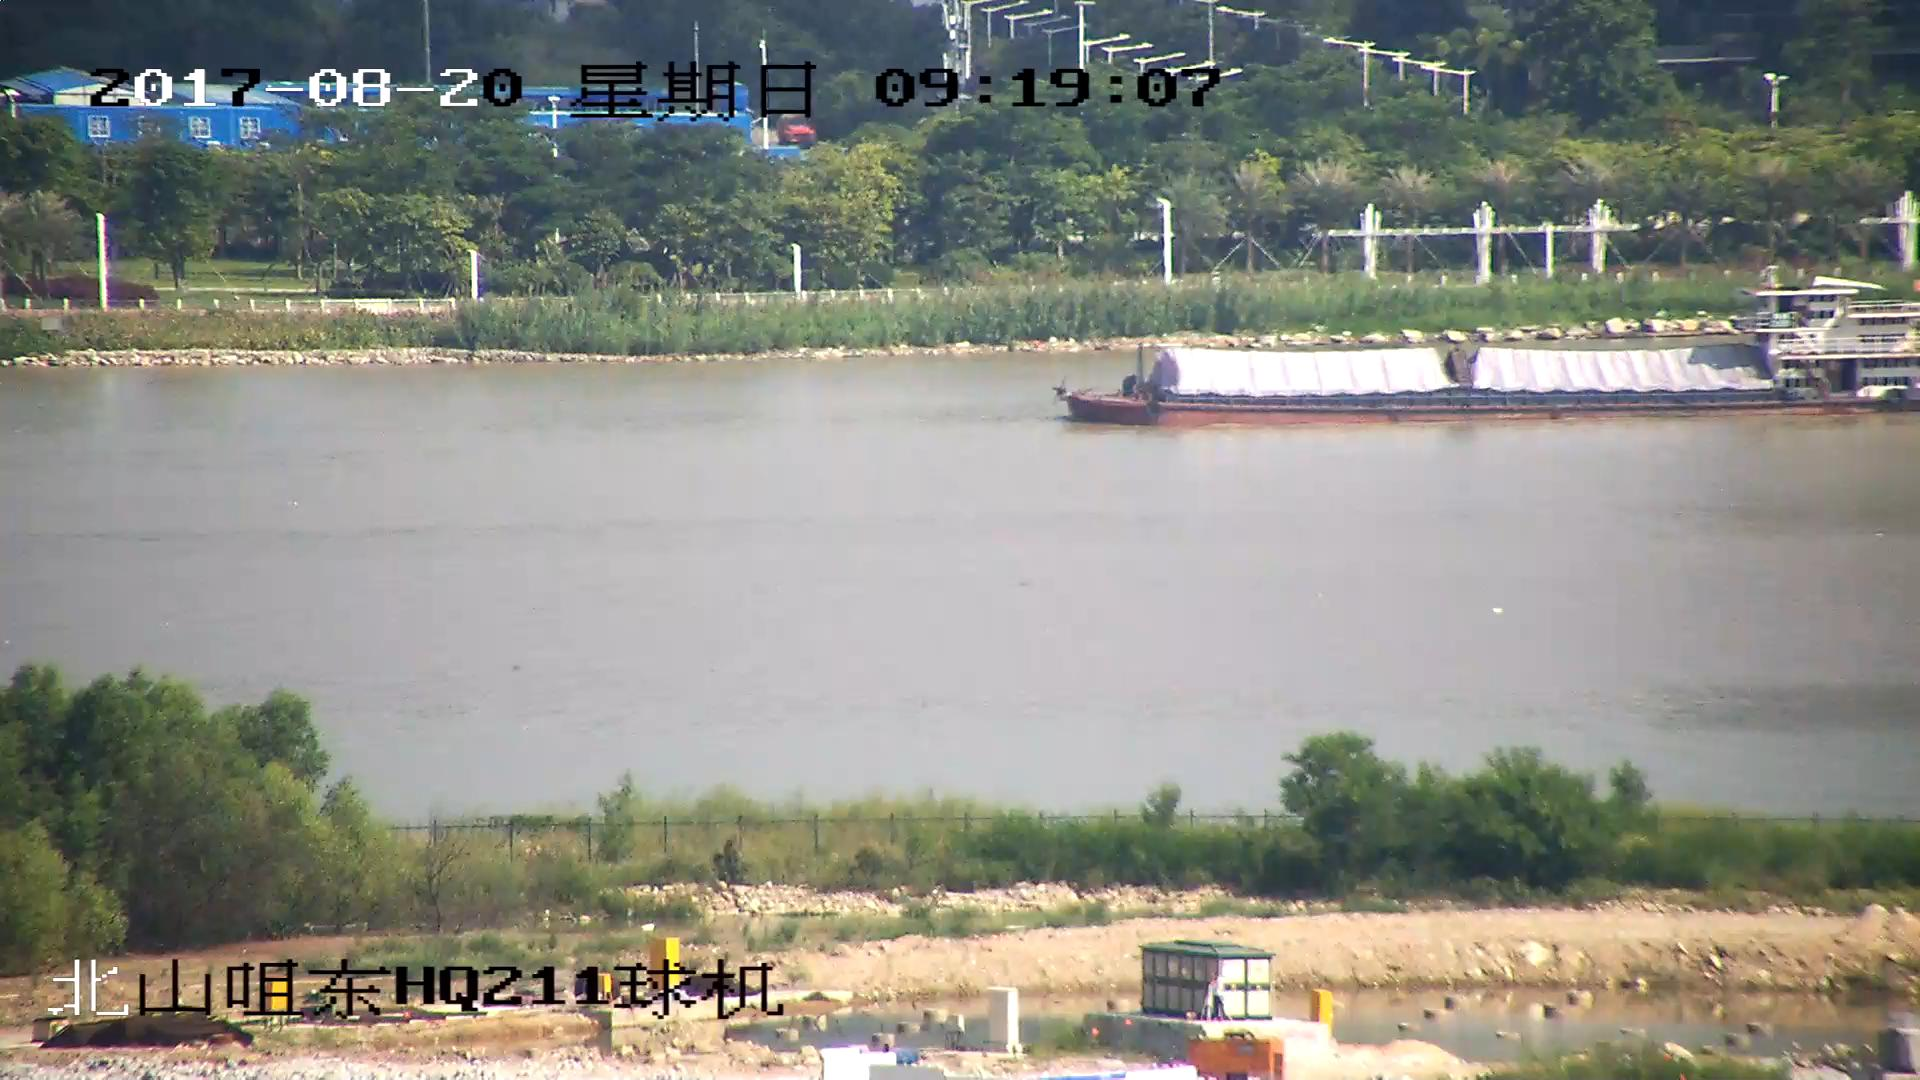general cargo ship: (1075, 292, 1920, 425)
